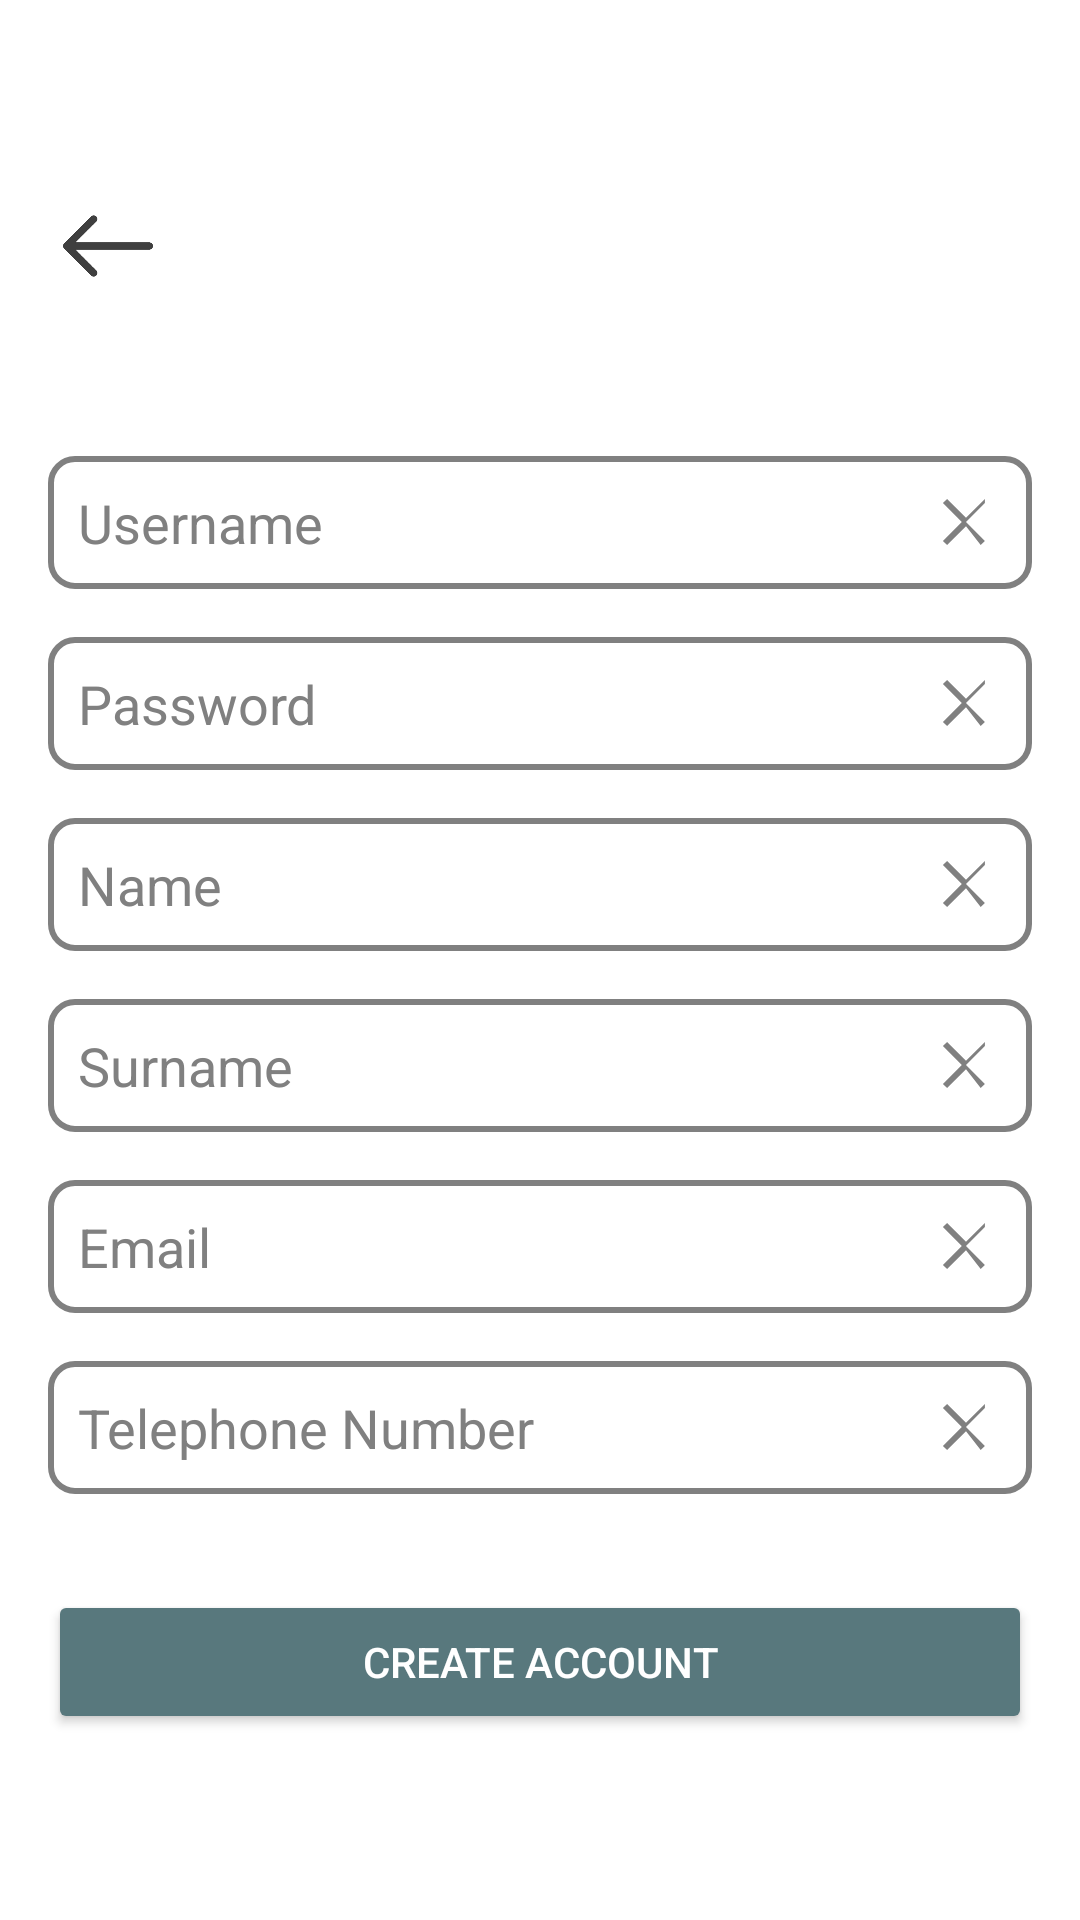

Screen size 1080w x 1920h. Icon name, then its center in pixels as (x,y):
back arrow: (108,246)
